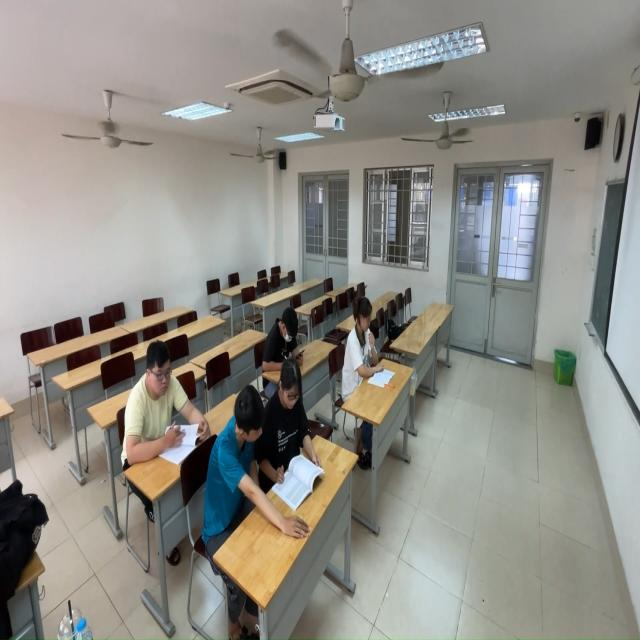read: (207, 383, 282, 548), (119, 345, 213, 472), (270, 355, 323, 487), (345, 302, 397, 401), (264, 306, 306, 368)
